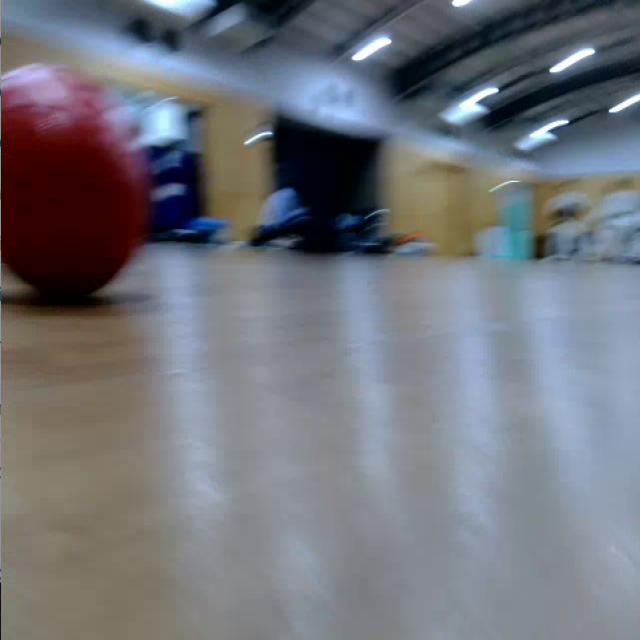red_ball: (0, 62, 150, 301)
